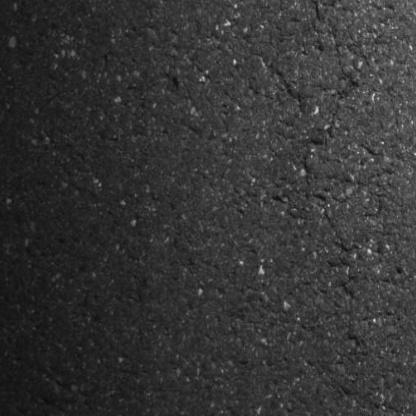Cracks: (302, 0, 363, 322), (349, 323, 367, 355)
